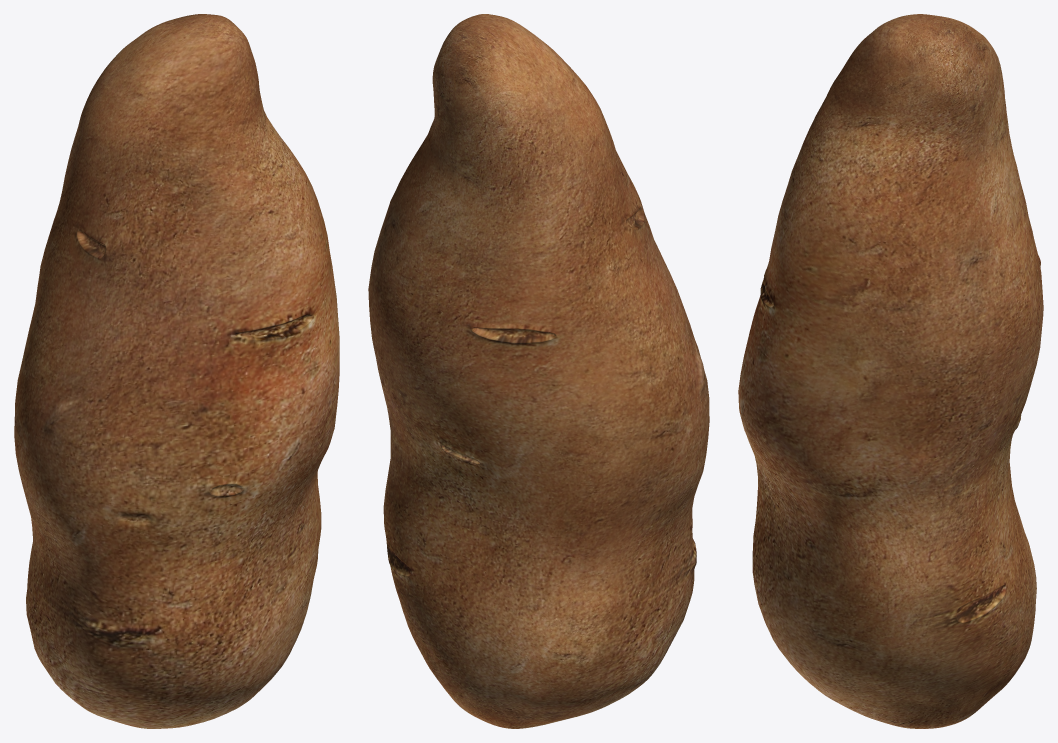
File: SweetPotato.glb
3 views of the same model, side by side, from view 1: azimuth 30°, elevation 25°; view 2: azimuth 150°, elevation 25°; view 3: azimuth 270°, elevation 25° (orthographic). The views are drawn at different scales.
Visible parts, largest first — view 1: Node1; view 2: Node1; view 3: Node1.
Boxes of the visible parts, box(x1,y1,x2,y2) form: Node1: box(14, 14, 339, 728); Node1: box(368, 14, 709, 728); Node1: box(738, 14, 1043, 728).
Size of the model in its own units: 4.77 by 10.42 by 4.04.
1 material, 1 textured.
